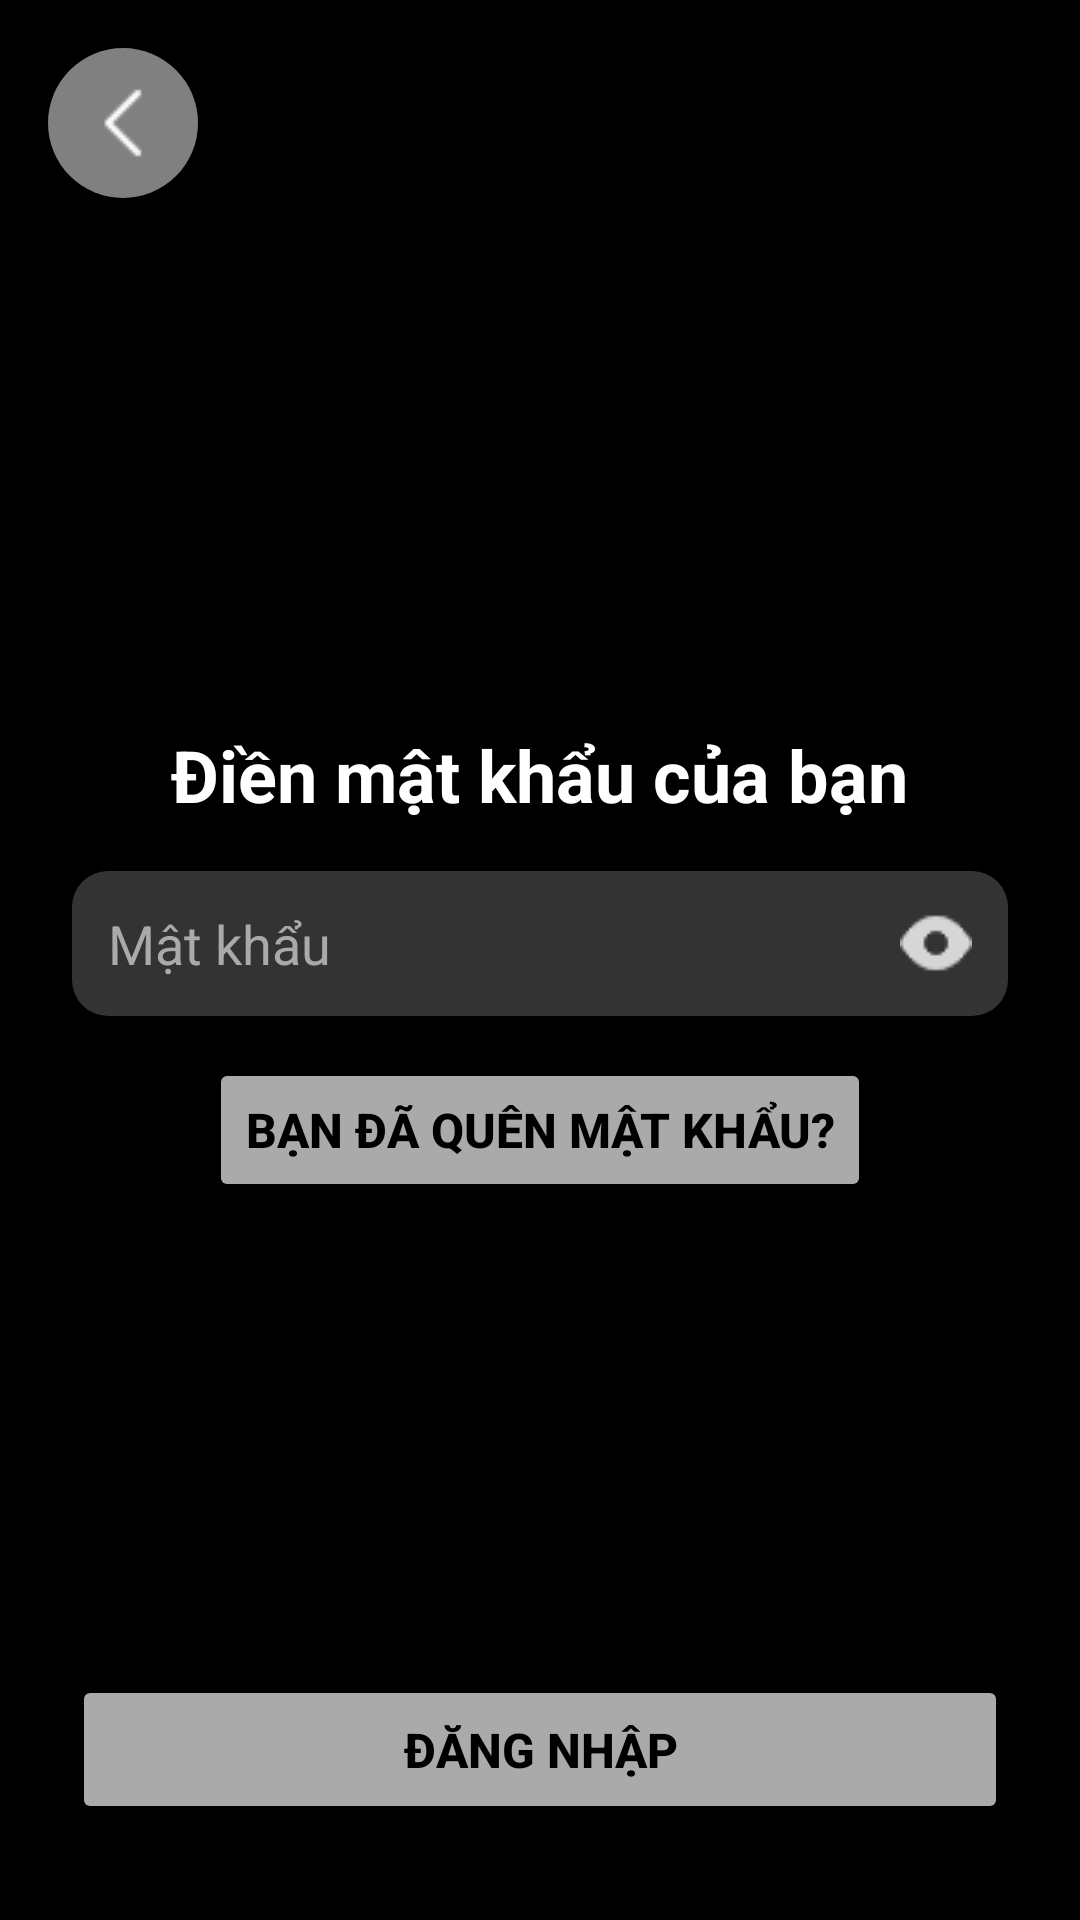

Screen size 1080×1920. Icon name, then its center in pixels as (x=x, y=y):
Toggle password visibility: (x=936, y=943)
Trờ về: (x=123, y=123)
